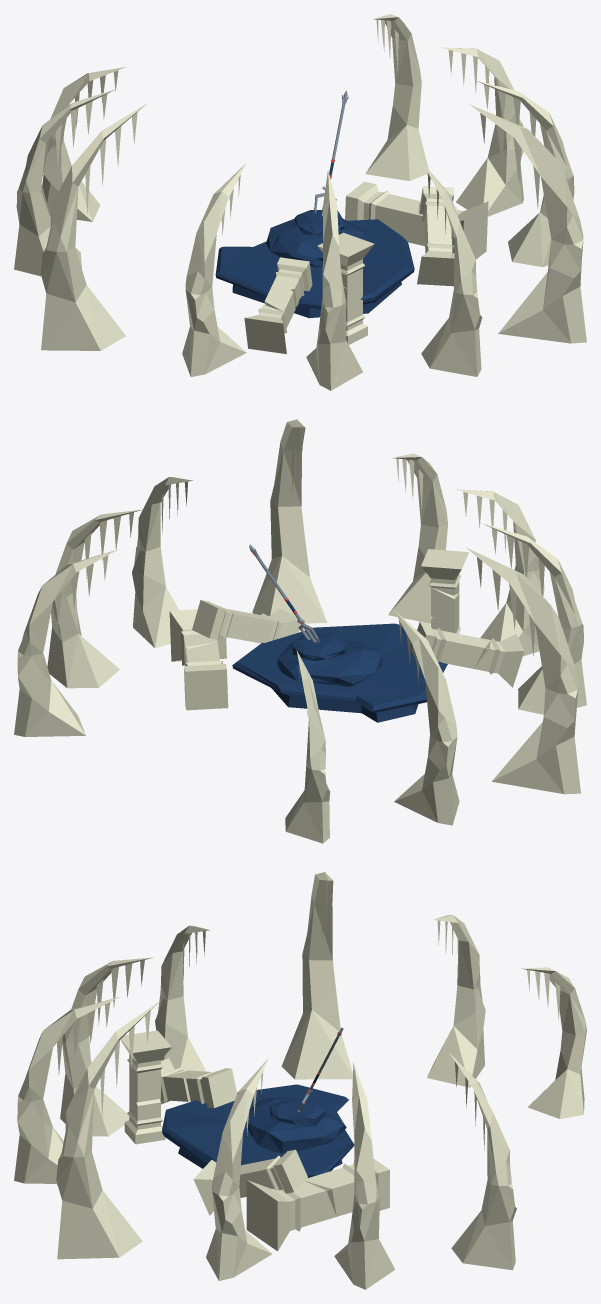
The model's file is tridentRuinesXpV1.fbx.
The picture shows the model from 3 angles, top to bottom: view 1: azimuth 30°, elevation 25°; view 2: azimuth 150°, elevation 25°; view 3: azimuth 270°, elevation 25°; orthographic projection. The views are drawn at different scales.
Visible parts, largest first — view 1: ribcage14, plateau1, pilaar2, pilaar3, pilaar1, rotspartij1, pilaar4; view 2: ribcage14, plateau1, pilaar2, rotspartij1, pilaar3, pilaar1, pilaar4, pasted__wapen_trident; view 3: ribcage14, plateau1, pilaar2, rotspartij1, pilaar4, pilaar1, pilaar3.
Boxes of the visible parts, <box> form: ribcage14: <box>14,14,586,390</box>; plateau1: <box>215,219,414,318</box>; pilaar2: <box>345,181,488,259</box>; pilaar3: <box>244,257,312,354</box>; pilaar1: <box>417,186,454,286</box>; rotspartij1: <box>266,210,366,267</box>; pilaar4: <box>317,232,374,344</box>; ribcage14: <box>14,419,586,843</box>; plateau1: <box>232,623,447,722</box>; pilaar2: <box>169,607,228,710</box>; rotspartij1: <box>277,634,382,686</box>; pilaar3: <box>411,621,524,687</box>; pilaar1: <box>192,600,300,643</box>; pilaar4: <box>421,549,468,634</box>; pasted__wapen_trident: <box>249,544,319,642</box>; ribcage14: <box>14,872,586,1289</box>; plateau1: <box>162,1084,354,1178</box>; pilaar2: <box>246,1159,389,1251</box>; rotspartij1: <box>245,1098,346,1153</box>; pilaar4: <box>120,1030,171,1144</box>; pilaar1: <box>193,1149,307,1215</box>; pilaar3: <box>160,1058,236,1108</box>.
Bounding box in the file's own units: 103 × 42.45 × 98.08.
